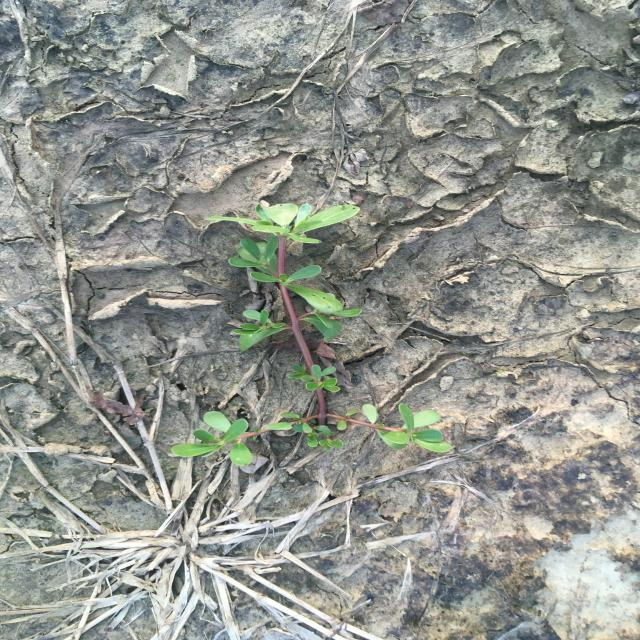Purslane: (170, 199, 455, 469)
